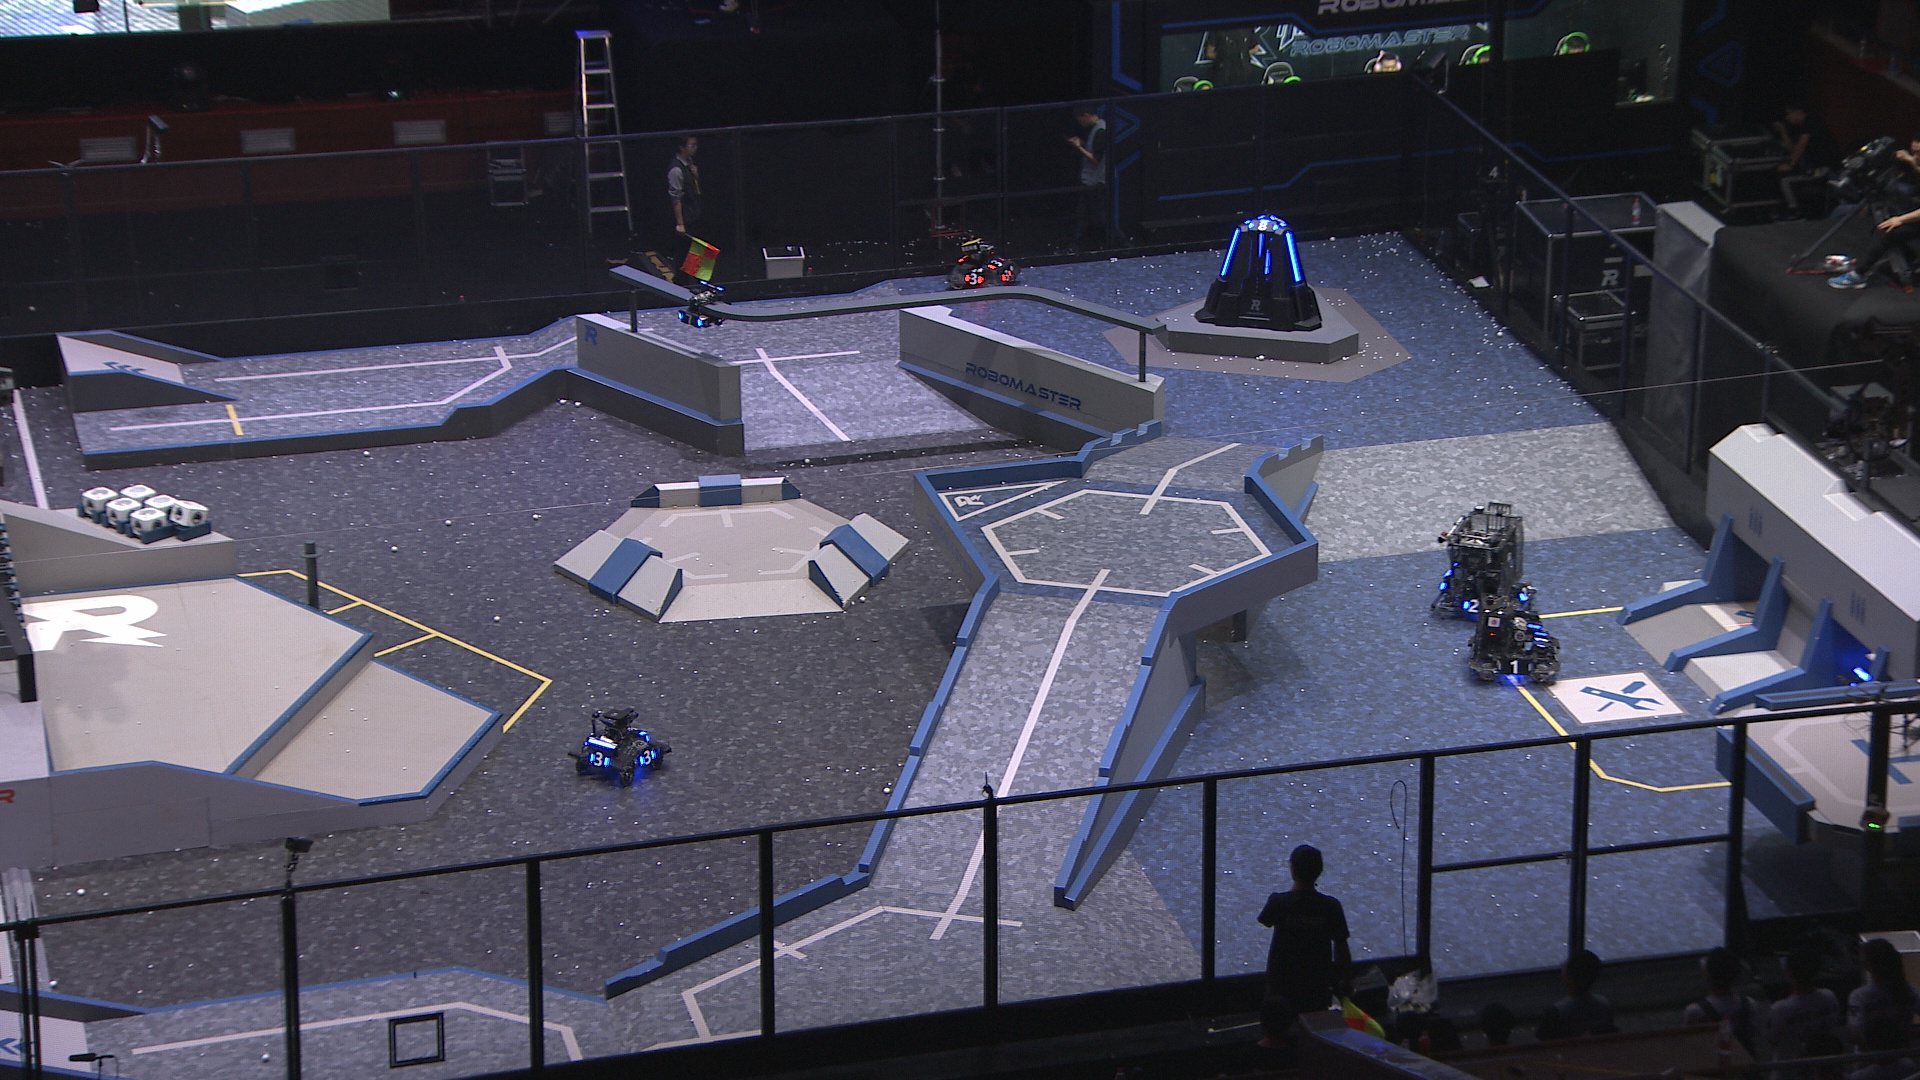armor: (1216, 225, 1244, 277), (1284, 229, 1305, 284), (1493, 659, 1536, 674), (675, 311, 705, 328), (1247, 218, 1278, 233), (1531, 628, 1551, 650), (982, 253, 1007, 270), (589, 750, 611, 769), (963, 272, 986, 286), (1515, 585, 1534, 603), (1460, 597, 1480, 613), (640, 750, 657, 767), (1255, 233, 1266, 258), (1262, 252, 1273, 276), (998, 270, 1013, 282)
base: (1193, 215, 1325, 330)
car: (1428, 498, 1542, 622), (564, 704, 673, 789), (1468, 595, 1564, 687), (949, 237, 1025, 291)
watcher: (673, 278, 727, 334)
